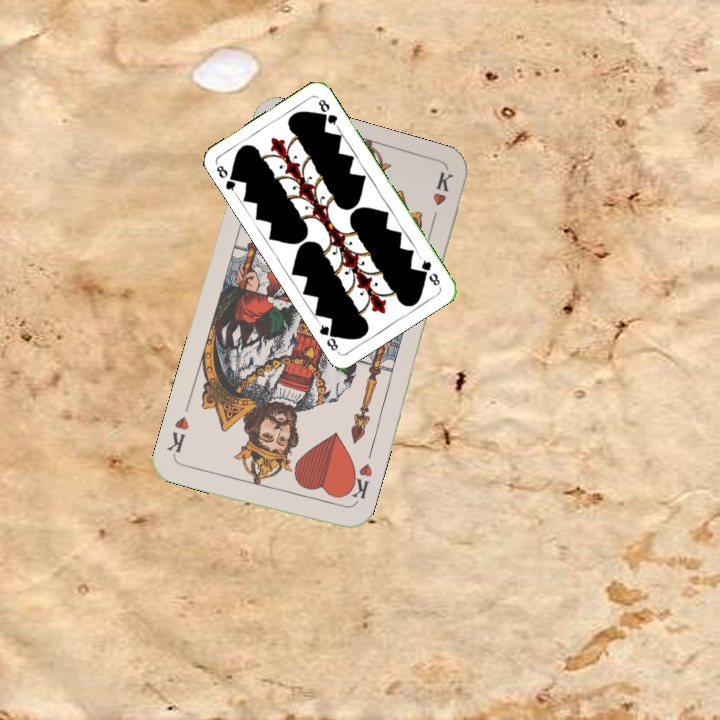G8: (212, 160, 241, 197), (416, 253, 443, 289)
HK: (342, 459, 375, 508)
